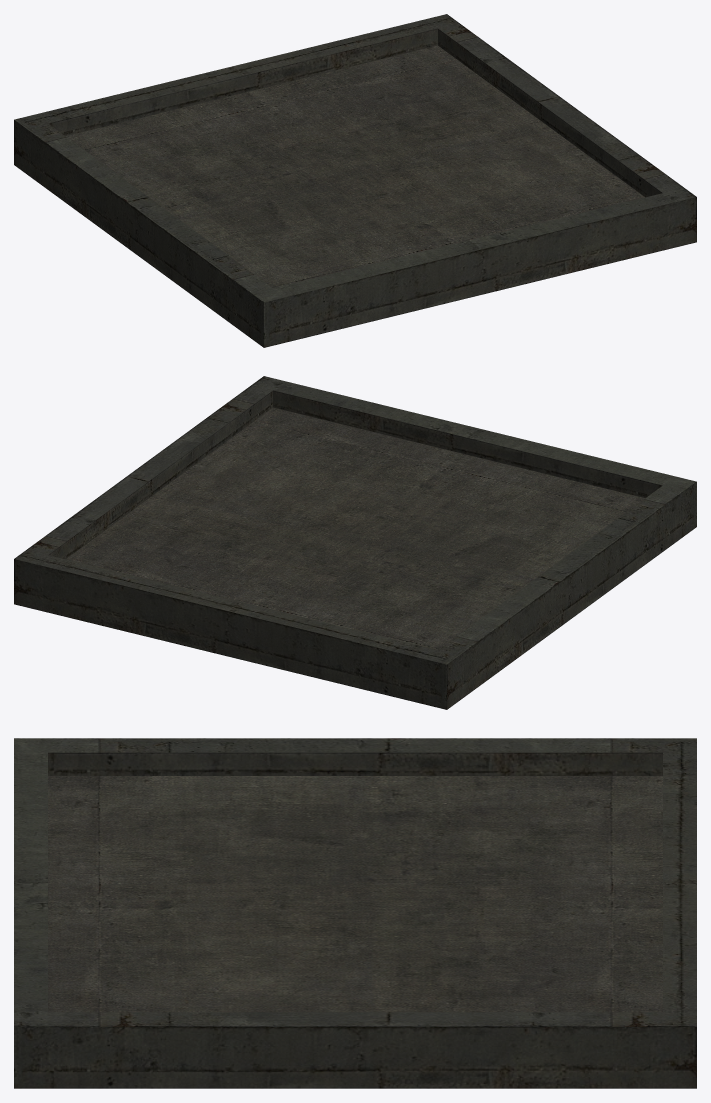
The model's file is floor_ceiling_hr_6.fbx.
The picture shows the model from 3 angles, top to bottom: view 1: azimuth 30°, elevation 25°; view 2: azimuth 150°, elevation 25°; view 3: azimuth 270°, elevation 25°; orthographic projection. The views are drawn at different scales.
Visible parts, largest first — view 1: floor_ceiling_hr_6; view 2: floor_ceiling_hr_6; view 3: floor_ceiling_hr_6.
Boxes of the visible parts, box(x1,y1,x2,y2) form: floor_ceiling_hr_6: box(14, 14, 696, 347); floor_ceiling_hr_6: box(14, 376, 696, 709); floor_ceiling_hr_6: box(14, 738, 696, 1088).
Size of the model in its own units: 4 by 4 by 0.4.
